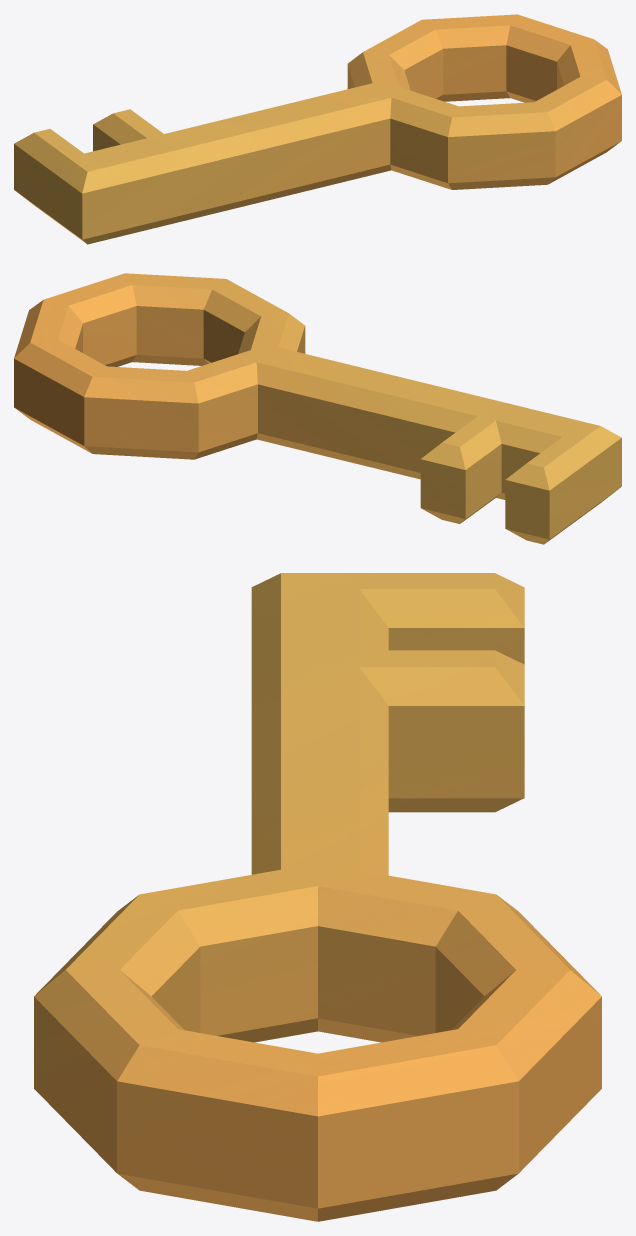
Rendered from key.fbx.
The picture shows the model from 3 angles, top to bottom: view 1: azimuth 30°, elevation 25°; view 2: azimuth 150°, elevation 25°; view 3: azimuth 270°, elevation 25°; orthographic projection. The views are drawn at different scales.
Parts seen in each view (by area): view 1: key; view 2: key; view 3: key.
Boxes of the visible parts, x1=… form: key: x1=14, y1=14, x2=621, y2=244; key: x1=14, y1=273, x2=621, y2=544; key: x1=34, y1=573, x2=601, y2=1221.
Bounding box in the file's own units: 43564 × 5581 × 19767.
Materials: 1 (1 with a texture image).
